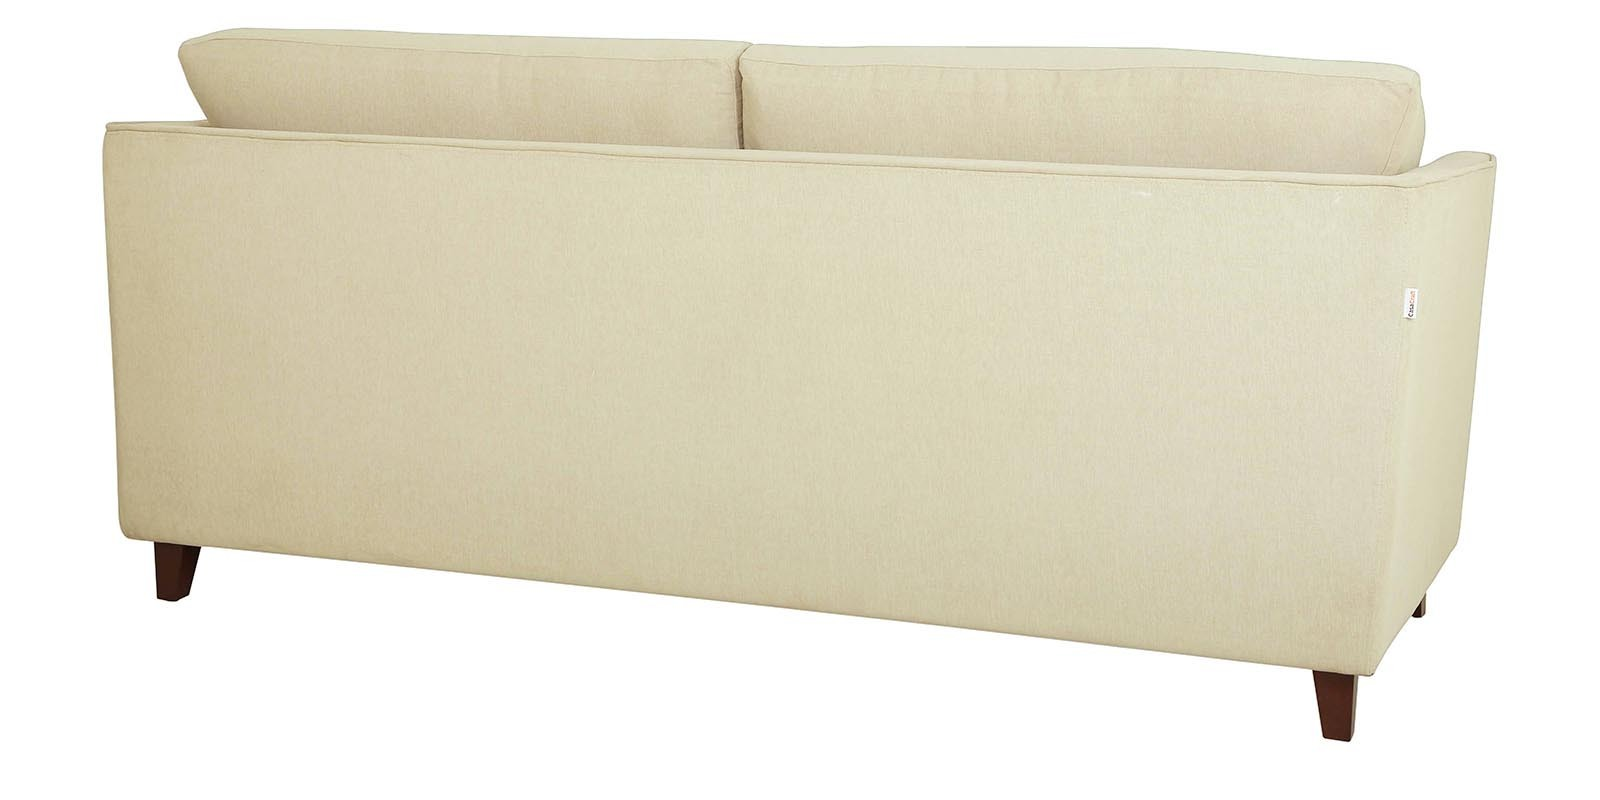Miranda Three Seater Sofa in Beige Colour by CasaCraft: (102, 23, 1498, 742)
